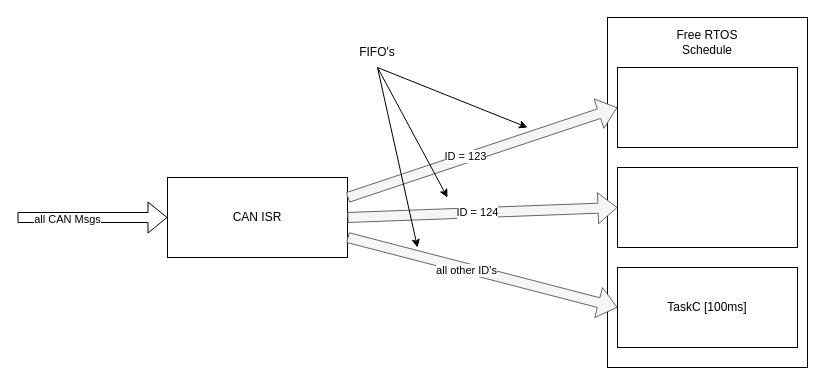
This 825x385 diagram has some shape labels left out. Here are the shapes that lost their labels. From the top down, the centre of each, then its label:
the point at 707,107: TaskA [2ms]
the point at 707,207: TaskB [10ms]
